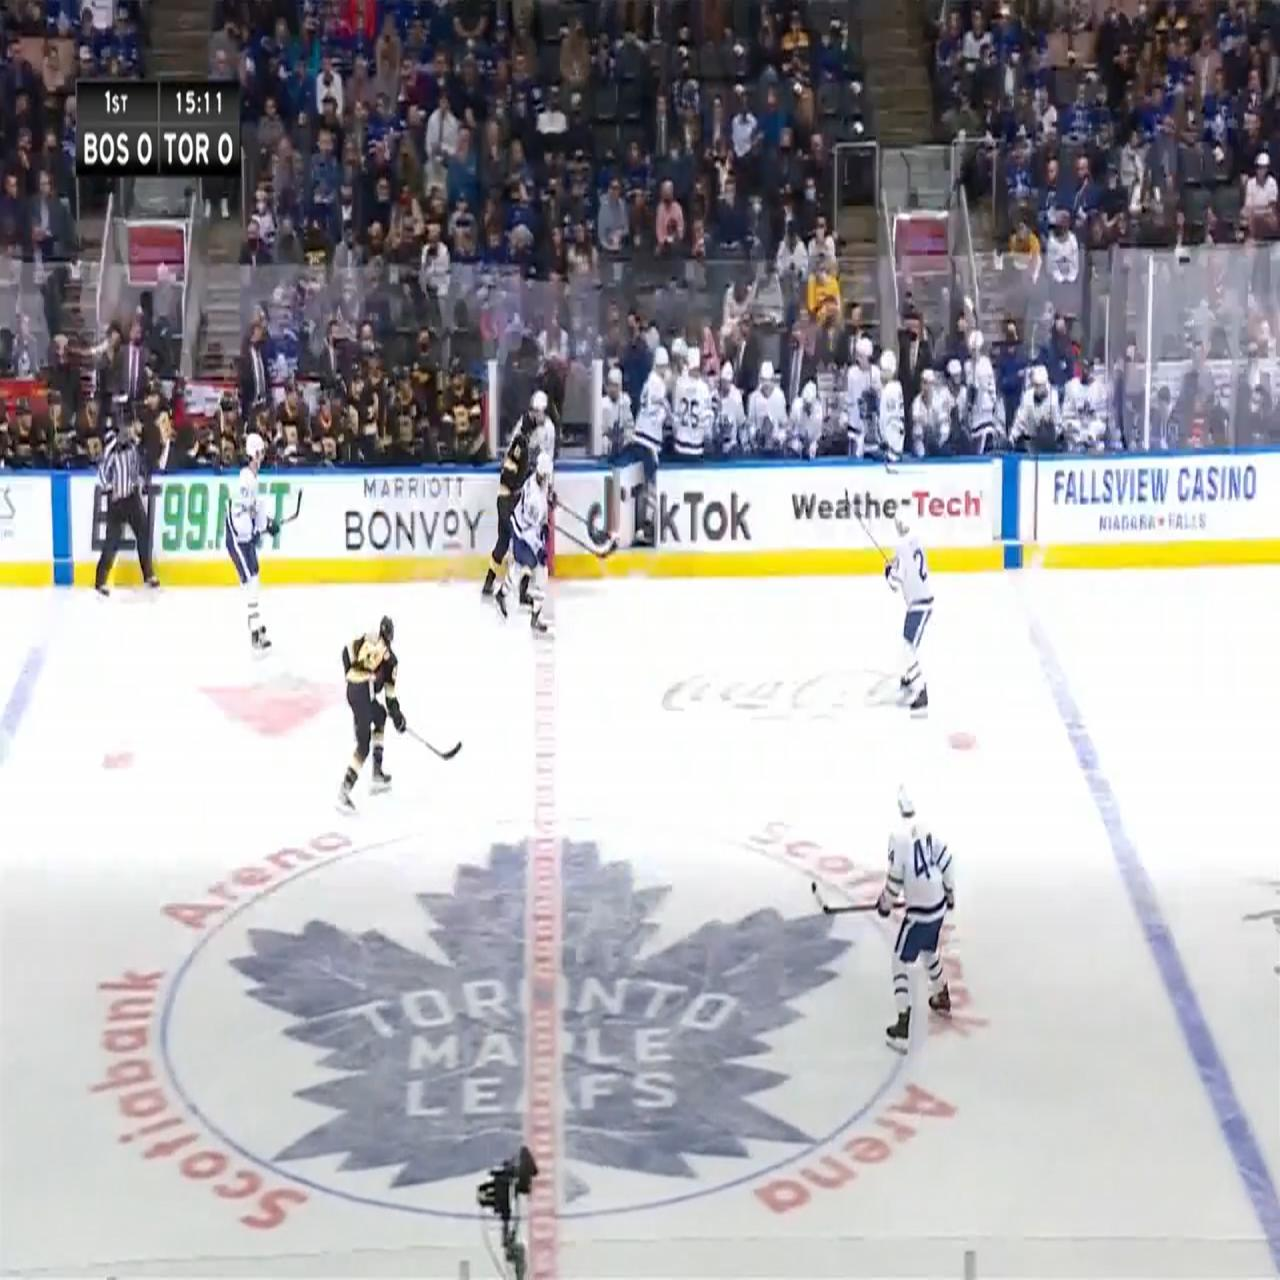Ad: (621, 644, 915, 758), (86, 475, 304, 587), (1043, 457, 1271, 559), (594, 465, 775, 566), (790, 463, 994, 550), (203, 653, 345, 767), (340, 482, 505, 554)
